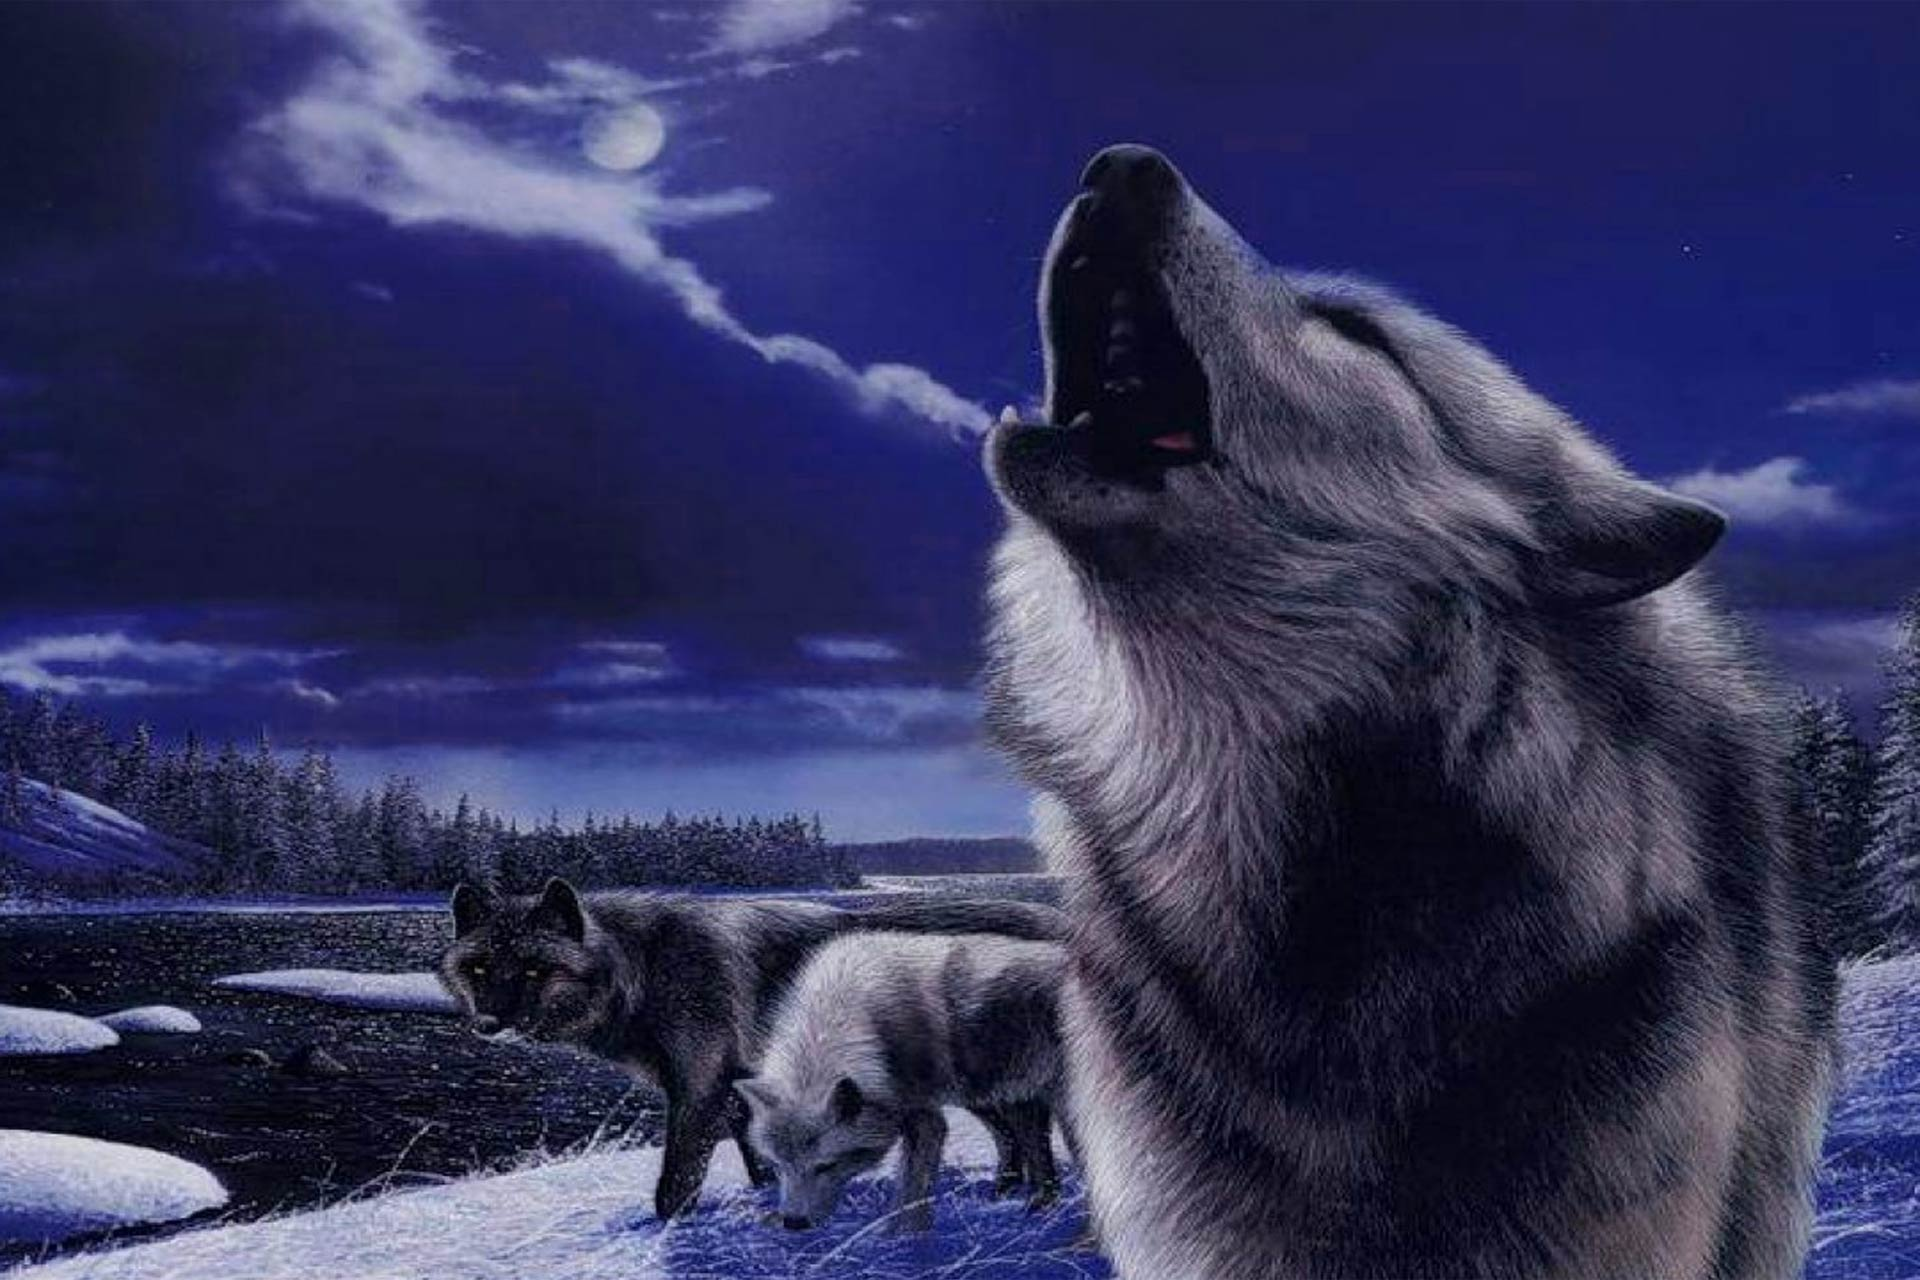Lobo: (894, 114, 1849, 1234), (410, 850, 799, 1200), (726, 889, 1079, 1239)
